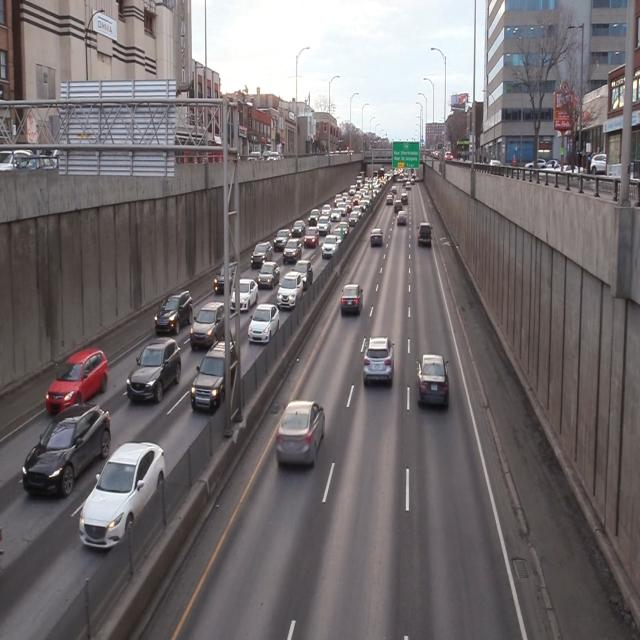Car: (78, 440, 166, 564), (22, 395, 113, 512), (45, 346, 109, 414), (125, 341, 183, 409), (192, 339, 240, 421), (275, 399, 326, 470), (188, 299, 230, 353), (417, 348, 451, 412), (154, 288, 193, 336), (362, 337, 397, 389), (248, 306, 279, 343), (231, 278, 258, 316), (277, 273, 304, 311), (338, 282, 365, 318), (214, 260, 240, 293), (251, 241, 273, 270), (258, 262, 280, 290), (283, 238, 302, 265), (417, 223, 433, 249), (274, 229, 291, 253), (321, 236, 339, 258), (296, 261, 312, 284), (304, 227, 319, 249), (369, 227, 384, 248), (292, 220, 305, 238)
